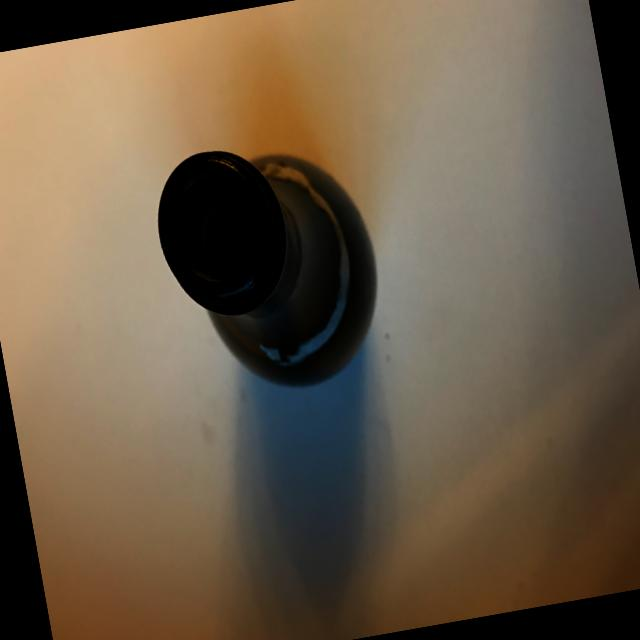Glass: (115, 106, 412, 426)
